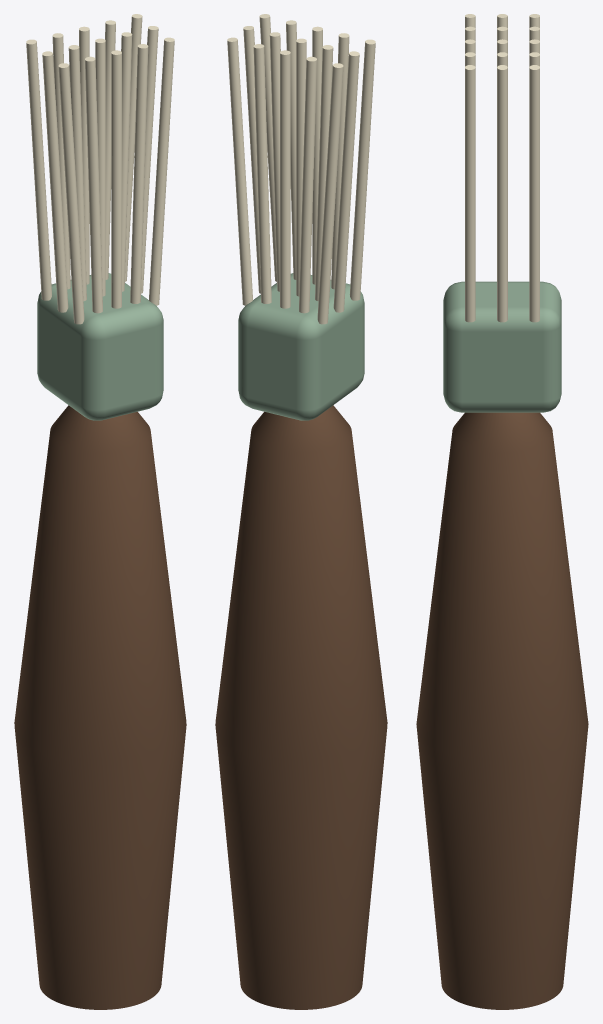
Rendered from abandoned-telephone-exchange-contact-cleaning-brush-39fabdae__32013.glb.
The picture shows the model from 3 angles, left to right: view 1: azimuth 30°, elevation 25°; view 2: azimuth 150°, elevation 25°; view 3: azimuth 270°, elevation 25°; orthographic projection.
Parts seen in each view (by area): view 1: contact-cleaning-brush; view 2: contact-cleaning-brush; view 3: contact-cleaning-brush.
Boxes of the visible parts, <box> form: contact-cleaning-brush: <box>14,14,186,1009</box>; contact-cleaning-brush: <box>215,14,387,1009</box>; contact-cleaning-brush: <box>416,14,588,1009</box>.
Bounding box in the file's own units: 0.048 × 0.2901 × 0.048.
